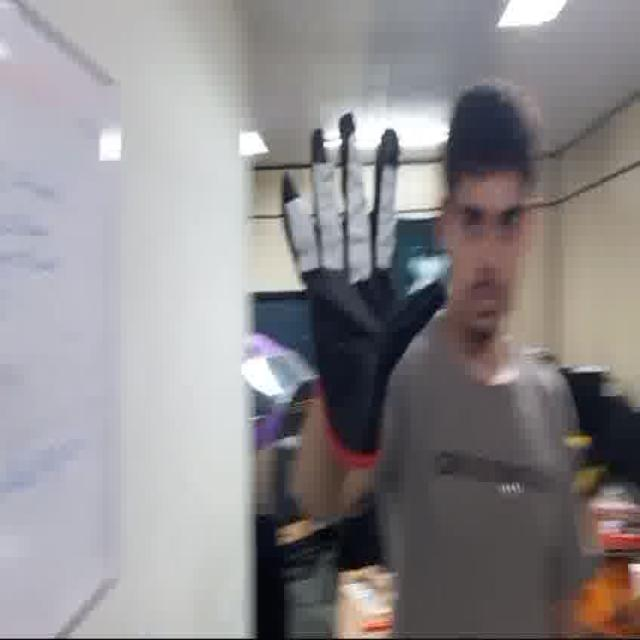Gloves: (273, 114, 453, 468)
